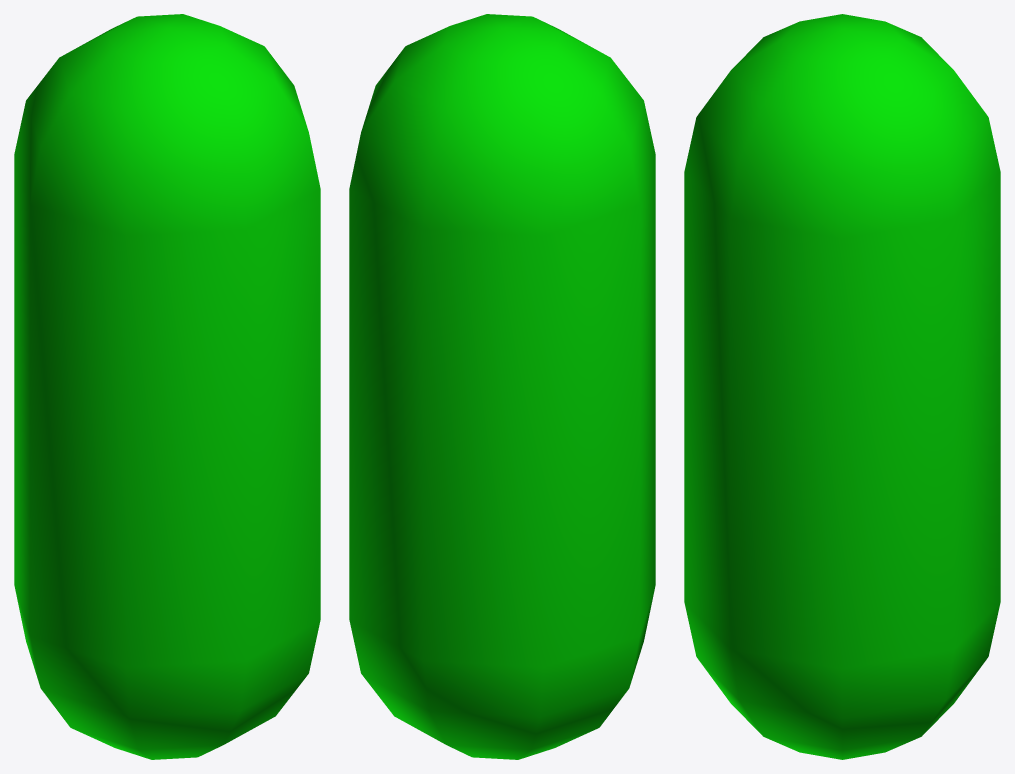
Rendered from piluleVerte.FBX.
3 views of the same model, side by side, from view 1: azimuth 30°, elevation 25°; view 2: azimuth 150°, elevation 25°; view 3: azimuth 270°, elevation 25° (orthographic).
Parts seen in each view (by area): view 1: piluleVerte; view 2: piluleVerte; view 3: piluleVerte.
Part boxes in pixels (bbox=[...]): piluleVerte: bbox=[14, 14, 320, 759]; piluleVerte: bbox=[349, 14, 655, 759]; piluleVerte: bbox=[684, 14, 1000, 759].
Bounding box in the file's own units: 7.87 × 19.69 × 7.87.
